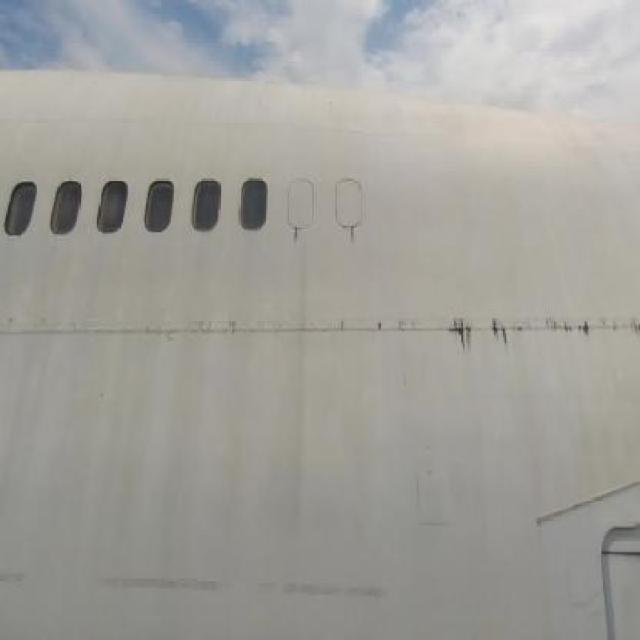Rust: (407, 292, 640, 373), (348, 223, 363, 254), (288, 229, 304, 253)
Scartch: (4, 565, 396, 617)
